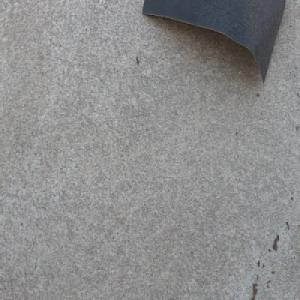PaintChip: (140, 0, 286, 85)
